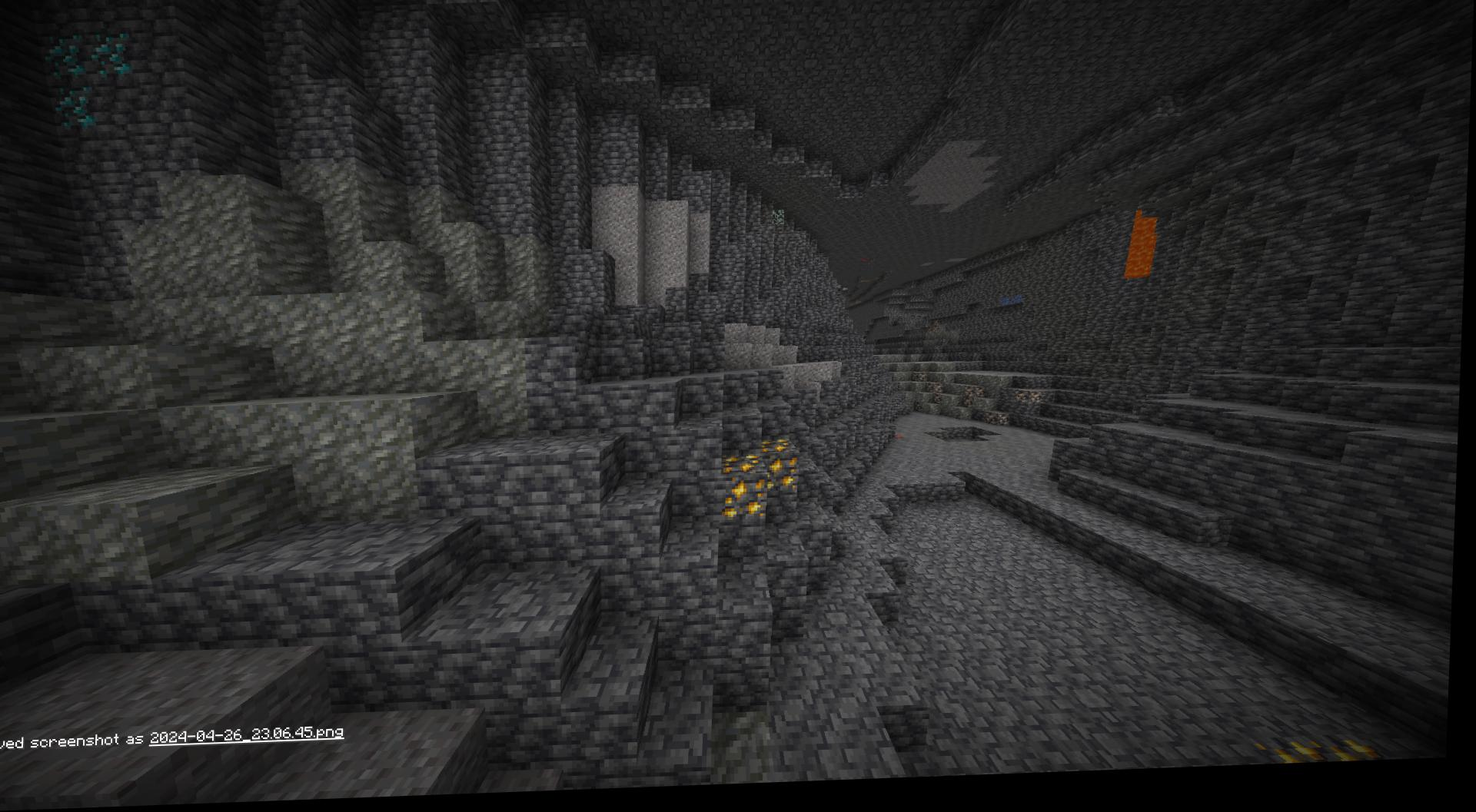diamond ore: (83, 28, 135, 78), (47, 83, 100, 132), (43, 36, 88, 81)
gold ore: (1270, 735, 1378, 774), (724, 456, 769, 524), (762, 437, 805, 495)
iron ore: (914, 375, 946, 408), (1014, 393, 1050, 416), (961, 387, 991, 413), (988, 415, 1014, 437)
